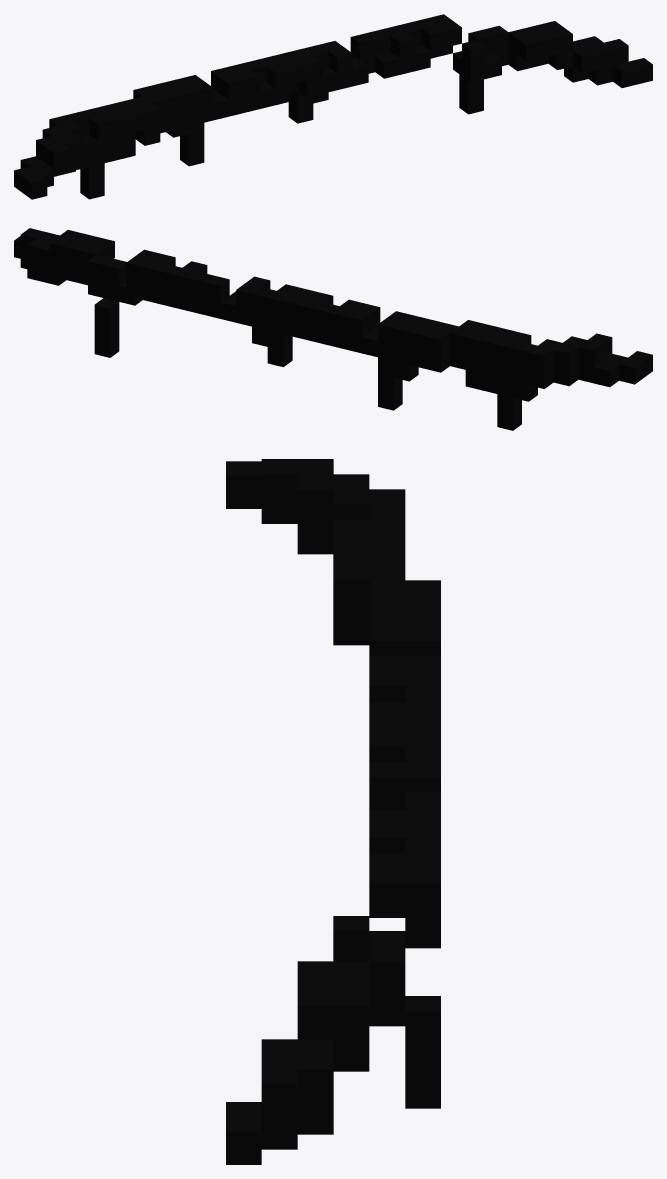
Rendered from Rib.002.fbx.
3 renders of one model, top to bottom at view 1: azimuth 30°, elevation 25°; view 2: azimuth 150°, elevation 25°; view 3: azimuth 270°, elevation 25°, orthographic. The views are drawn at different scales.
Parts seen in each view (by area): view 1: Rib.002; view 2: Rib.002; view 3: Rib.002.
Part boxes in pixels (left/top/right/bottom): Rib.002: left=14, top=14, right=652, bottom=199; Rib.002: left=14, top=228, right=652, bottom=430; Rib.002: left=226, top=459, right=440, bottom=1164.
Size of the model in its own units: 4 by 0.6 by 0.6.
